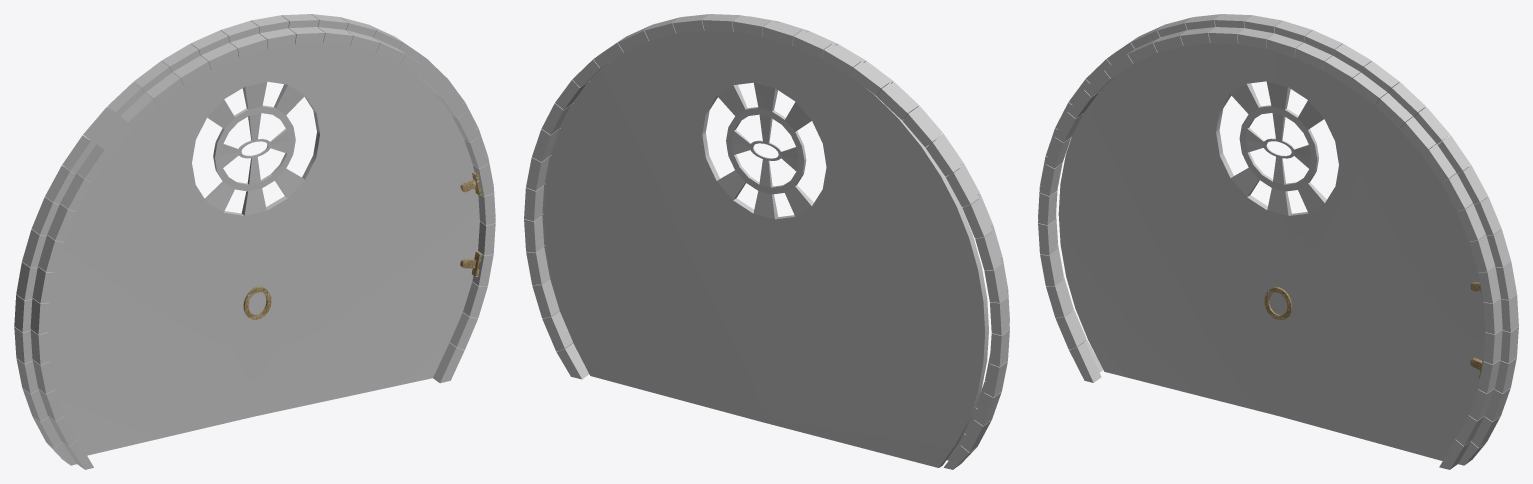
The model's file is doorAnimatedOpening01.FBX.
The picture shows the model from 3 angles, left to right: view 1: azimuth 30°, elevation 25°; view 2: azimuth 150°, elevation 25°; view 3: azimuth 330°, elevation 25°; orthographic projection.
Visible parts, largest first — view 1: door, doorFrame; view 2: door, doorFrame; view 3: door, doorFrame.
Part boxes in pixels (x1,y1,x2,y2): door: [48, 43, 479, 455]; doorFrame: [14, 14, 495, 469]; door: [544, 31, 988, 467]; doorFrame: [524, 14, 1009, 469]; door: [1058, 43, 1485, 460]; doorFrame: [1038, 14, 1518, 469].
Bounding box in the file's own units: 3.76 × 2.99 × 0.2593.
